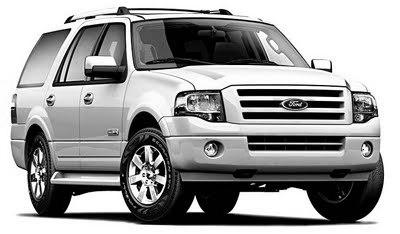car: (10, 5, 388, 228)
